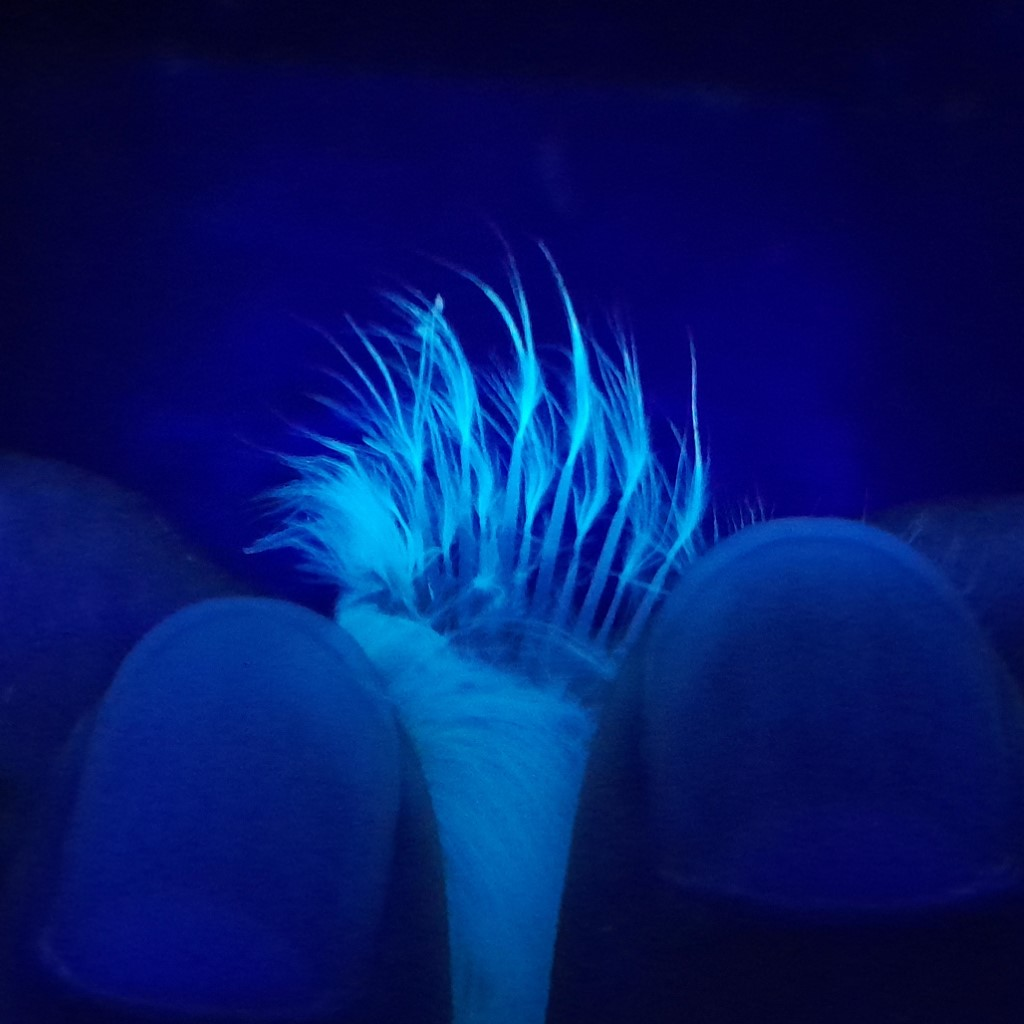male: (384, 413, 683, 738)
